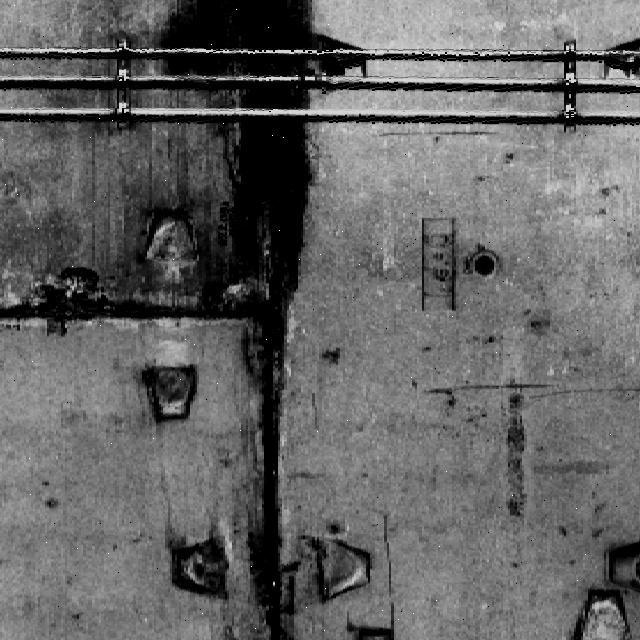leakage: (156, 1, 318, 640)
